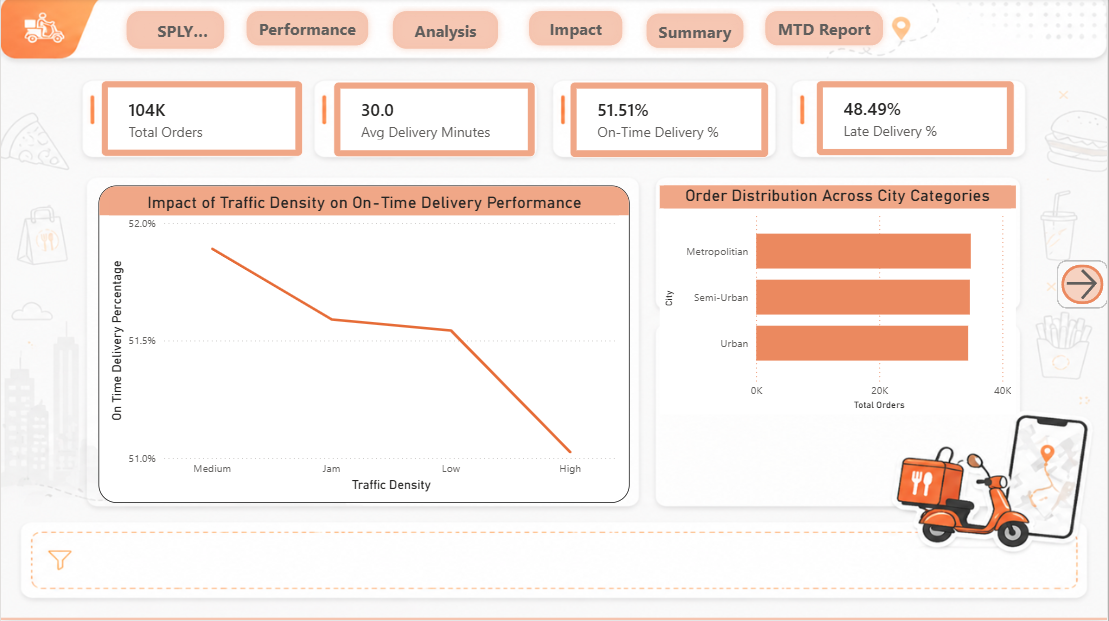

The page's visual inventory and layout, read from the dashboard file:
{"tool":"powerbi","page":{"name":"overview","canvas":[1280,720],"ordinal":1},"visuals":[{"type":"cardVisual","fields":{"Data":["train.Avg Delivery Minutes"]},"box":[384.9,96.5,233.7,87.2],"z":0},{"type":"cardVisual","fields":{"Data":["train.Total Orders"]},"box":[115,96,233.6,88.4],"z":1000},{"type":"cardVisual","fields":{"Data":["train.On-Time Delivery %"]},"box":[657.3,96.7,230.5,87.7],"z":2000},{"type":"cardVisual","fields":{"Data":["train.Late Delivery %"]},"box":[943.1,96,229.8,87.1],"z":3000},{"type":"lineChart","title":"Impact of Traffic Density on On-Time Delivery Performance","fields":{"Category":["train.Road_traffic_density"],"Y":["train.On-Time Delivery %"]},"box":[113,217.1,614.1,367.3],"z":4000},{"type":"actionButton","box":[137.6,7.6,128.8,59.3],"z":5000},{"type":"actionButton","box":[276.5,7.6,156.6,55.6],"z":6000},{"type":"actionButton","box":[445.7,7.6,137.6,59.3],"z":7000},{"type":"actionButton","box":[603.5,7.6,123.7,55.6],"z":8000},{"type":"actionButton","box":[738.3,9.7,127.9,55.5],"z":9000},{"type":"clusteredBarChart","title":"Order Distribution Across City Categories","fields":{"Category":["train.City"],"Y":["train.Total Orders"]},"box":[761.6,217.4,411.6,265.1],"z":10000},{"type":"actionButton","box":[1221.8,304.3,58.5,55.5],"z":11000},{"type":"actionButton","box":[1221.5,304.3,58.5,55.5],"z":12000},{"type":"actionButton","title":"MTD Report","box":[875.9,7.2,152,55.5],"z":13000}]}

Visuals, with their boxes in screenshot pixels (x1, y1, x2, y2), scaled from the page's 1280x720 canvas onto the 1109x621 screenshot:
cardVisual - train.Avg Delivery Minutes: (333,83,536,158)
cardVisual - train.Total Orders: (100,83,302,159)
cardVisual - train.On-Time Delivery %: (569,83,769,159)
cardVisual - train.Late Delivery %: (817,83,1016,158)
"Impact of Traffic Density on On-Time Delivery Performance" lineChart: (98,187,630,504)
actionButton: (119,7,231,58)
actionButton: (240,7,375,55)
actionButton: (386,7,505,58)
actionButton: (523,7,630,55)
actionButton: (640,8,750,56)
"Order Distribution Across City Categories" clusteredBarChart: (660,188,1016,416)
actionButton: (1059,262,1108,310)
actionButton: (1058,262,1108,310)
"MTD Report" actionButton: (759,6,891,54)
